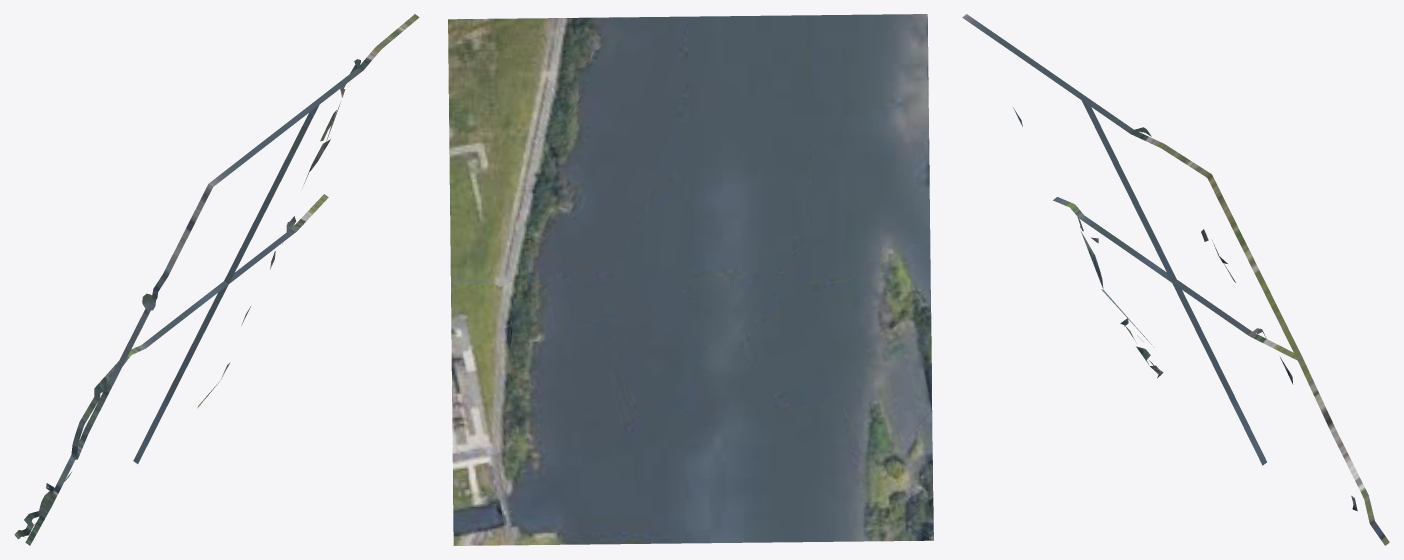
The picture shows the model from 3 angles, left to right: view 1: azimuth 30°, elevation 25°; view 2: azimuth 150°, elevation 25°; view 3: azimuth 270°, elevation 25°; orthographic projection. The views are drawn at different scales.
Size of the model in its own units: 308 by 279 by 259.
1 material, 1 textured.
